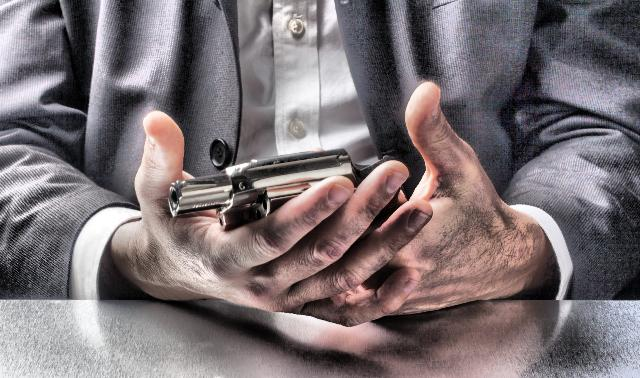pistol: (158, 147, 412, 239)
